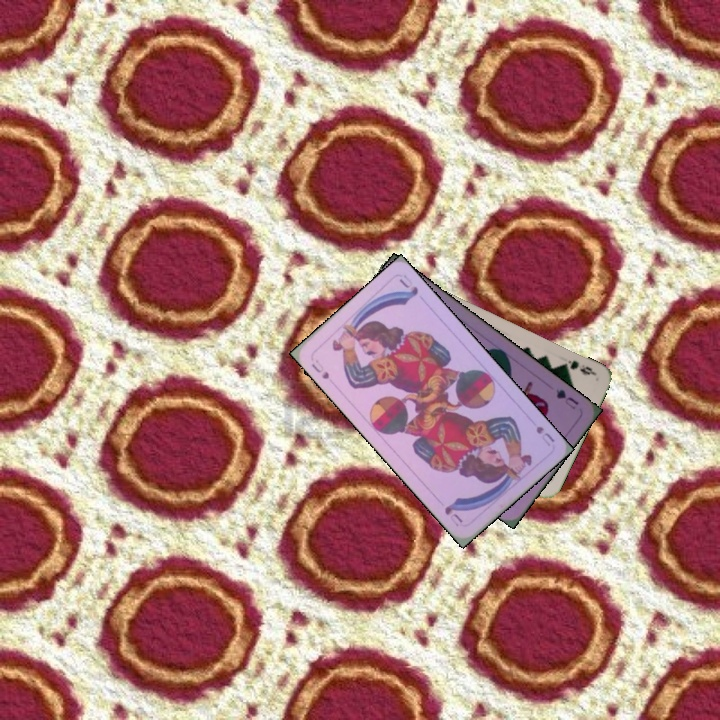G9: (557, 356, 598, 378)
GU: (552, 385, 581, 412)
SU: (532, 422, 557, 449), (308, 356, 332, 382)
